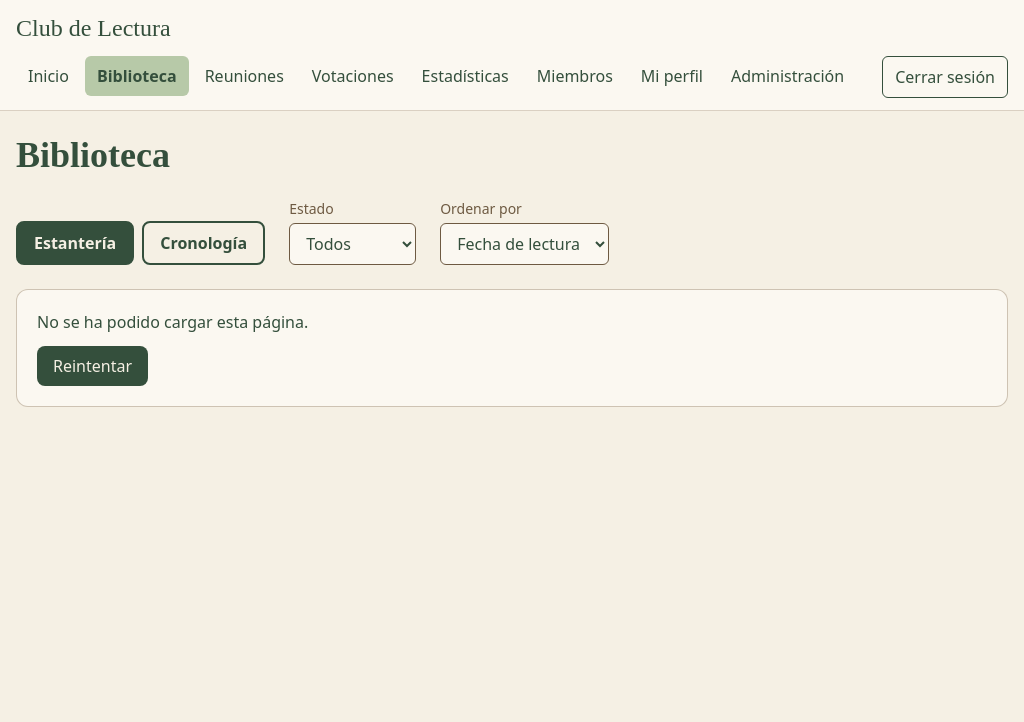
Test: Biblioteca › keeps the navigation usable while the books cannot be loaded
The width and height of the screenshot is (1024, 722).
Expected: the button "Reintentar" is shown, [37, 346, 148, 386]
Click the link "Inicio" at [48, 76], box [28, 65, 69, 87]
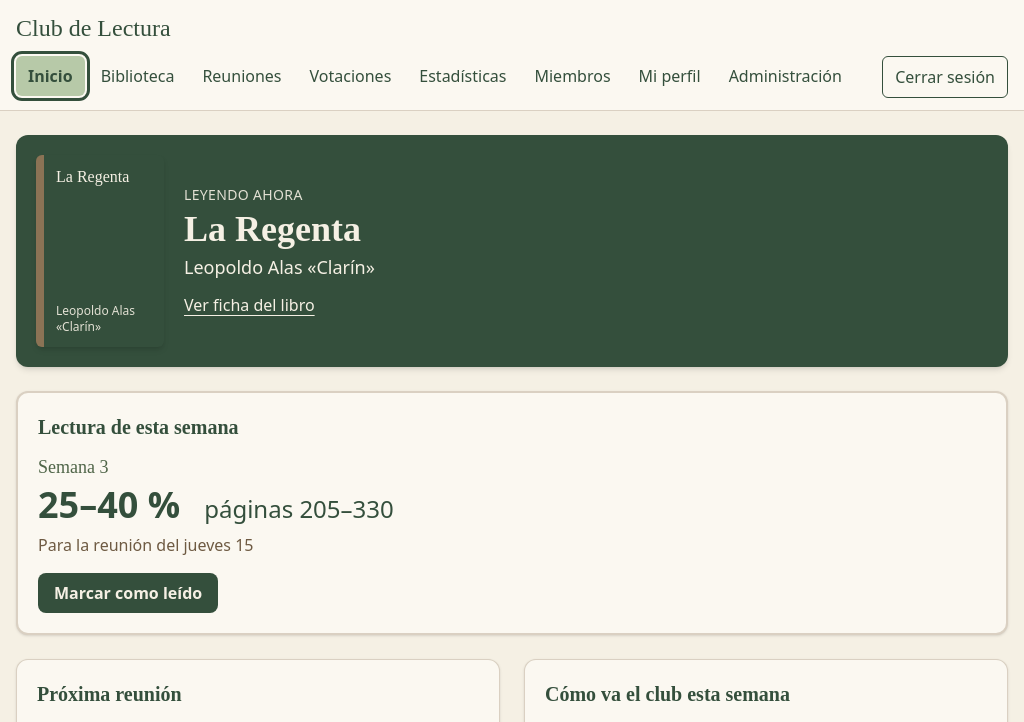
Expected: the heading "La Regenta" is shown, [184, 209, 375, 249]
